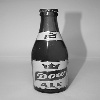beer: (26, 7, 73, 93)
